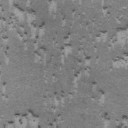oxide scale of temperature system: (53, 24, 128, 106), (0, 0, 46, 66), (3, 109, 62, 128), (103, 112, 128, 128), (92, 82, 106, 105), (61, 9, 76, 27), (2, 82, 9, 101), (48, 0, 57, 13), (102, 6, 110, 16), (51, 74, 55, 80)
